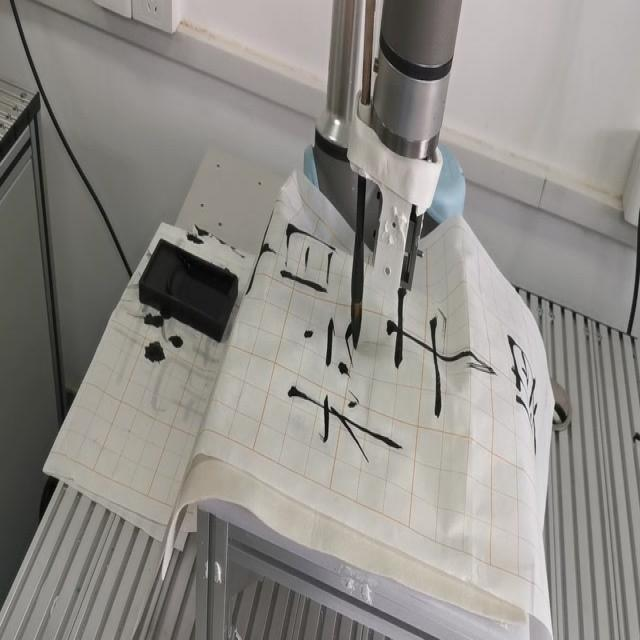head: (349, 304, 366, 352)
inkstone: (139, 235, 240, 342)
writing-brush: (348, 10, 376, 352)
